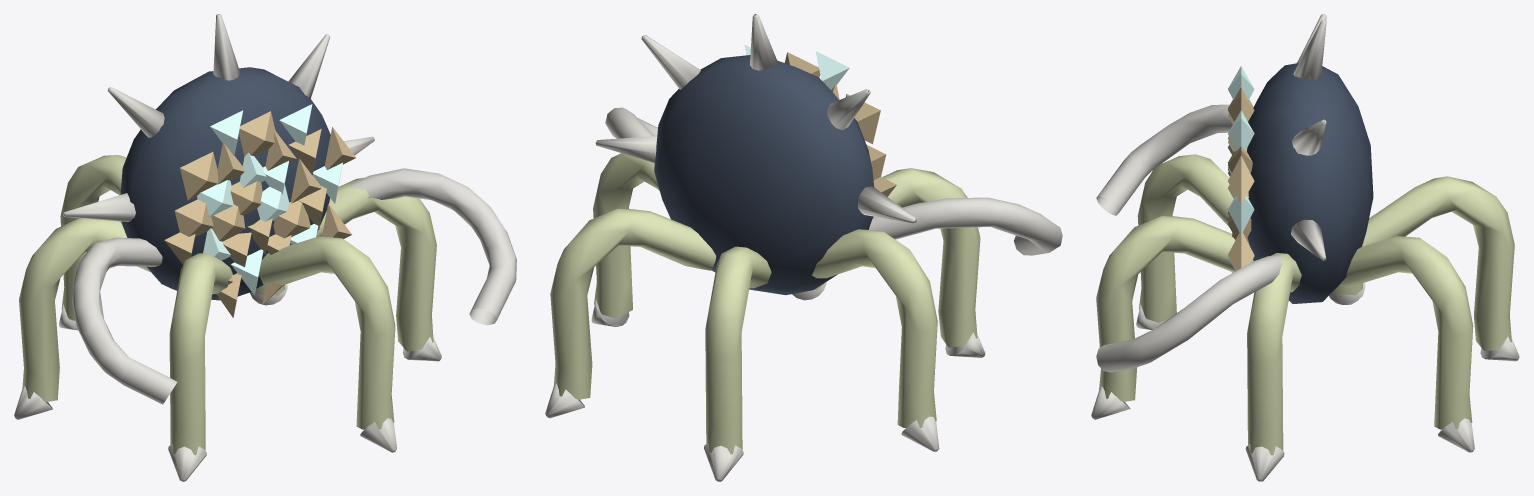
Rendered from bio_crown_stalker_10_far.glb.
3 views of the same model, side by side, from view 1: azimuth 30°, elevation 25°; view 2: azimuth 150°, elevation 25°; view 3: azimuth 270°, elevation 25° (orthographic). The views are drawn at different scales.
Parts seen in each view (by area): view 1: Faceted crown substrate, Compound lens facet.001, Crooked support.003, Crooked support.001, Crooked support.002, Crooked support.004, Scythe sensory limb.001, Scythe sensory limb, Compound lens facet, Crown radiating blade, Crooked support, Contact spur.002 (+3 smaller); view 2: Faceted crown substrate, Crooked support.005, Crooked support.001, Crooked support, Crooked support.002, Scythe sensory limb, Crown radiating blade, Crooked support.004, Compound lens facet.001, Scythe sensory limb.001, Contact spur, Contact spur.001 (+3 smaller); view 3: Faceted crown substrate, Crooked support, Crooked support.005, Crooked support.003, Crooked support.004, Crooked support.002, Scythe sensory limb.001, Scythe sensory limb, Crown radiating blade, Compound lens facet.001, Compound lens facet, Contact spur.004 (+3 smaller).
Part boxes in pixels (x1,y1,x2,y2): Faceted crown substrate: (120, 67, 330, 300); Compound lens facet.001: (164, 111, 355, 317); Crooked support.003: (258, 236, 395, 429); Crooked support.001: (19, 218, 150, 401); Crooked support.002: (169, 253, 232, 454); Crooked support.004: (316, 177, 436, 351); Scythe sensory limb.001: (349, 168, 516, 325); Scythe sensory limb: (72, 237, 177, 404); Compound lens facet: (197, 104, 342, 295); Crown radiating blade: (63, 14, 374, 221); Crooked support: (60, 155, 126, 320); Contact spur.002: (168, 444, 206, 481); Faceted crown substrate: (654, 55, 874, 295); Crooked support.005: (550, 208, 716, 399); Crooked support.001: (812, 229, 937, 427); Crooked support: (705, 246, 771, 454); Crooked support.002: (882, 168, 980, 347); Scythe sensory limb: (869, 197, 1062, 255); Crown radiating blade: (595, 14, 916, 223); Crooked support.004: (593, 153, 659, 318); Compound lens facet.001: (784, 52, 896, 196); Scythe sensory limb.001: (605, 107, 657, 138); Contact spur: (704, 443, 743, 481); Contact spur.001: (901, 416, 939, 451); Faceted crown substrate: (1247, 63, 1373, 303); Crooked support: (1362, 176, 1514, 351); Crooked support.005: (1340, 236, 1473, 429); Crooked support.003: (1096, 215, 1253, 401); Crooked support.004: (1247, 253, 1301, 455); Crooked support.002: (1137, 154, 1233, 322); Scythe sensory limb.001: (1096, 255, 1296, 372); Scythe sensory limb: (1096, 104, 1232, 215); Crown radiating blade: (1291, 14, 1326, 260); Compound lens facet.001: (1228, 88, 1254, 272); Compound lens facet: (1228, 66, 1254, 270); Contact spur.004: (1245, 444, 1284, 481).
Size of the model in its own units: 2.59 by 2.16 by 2.26.
